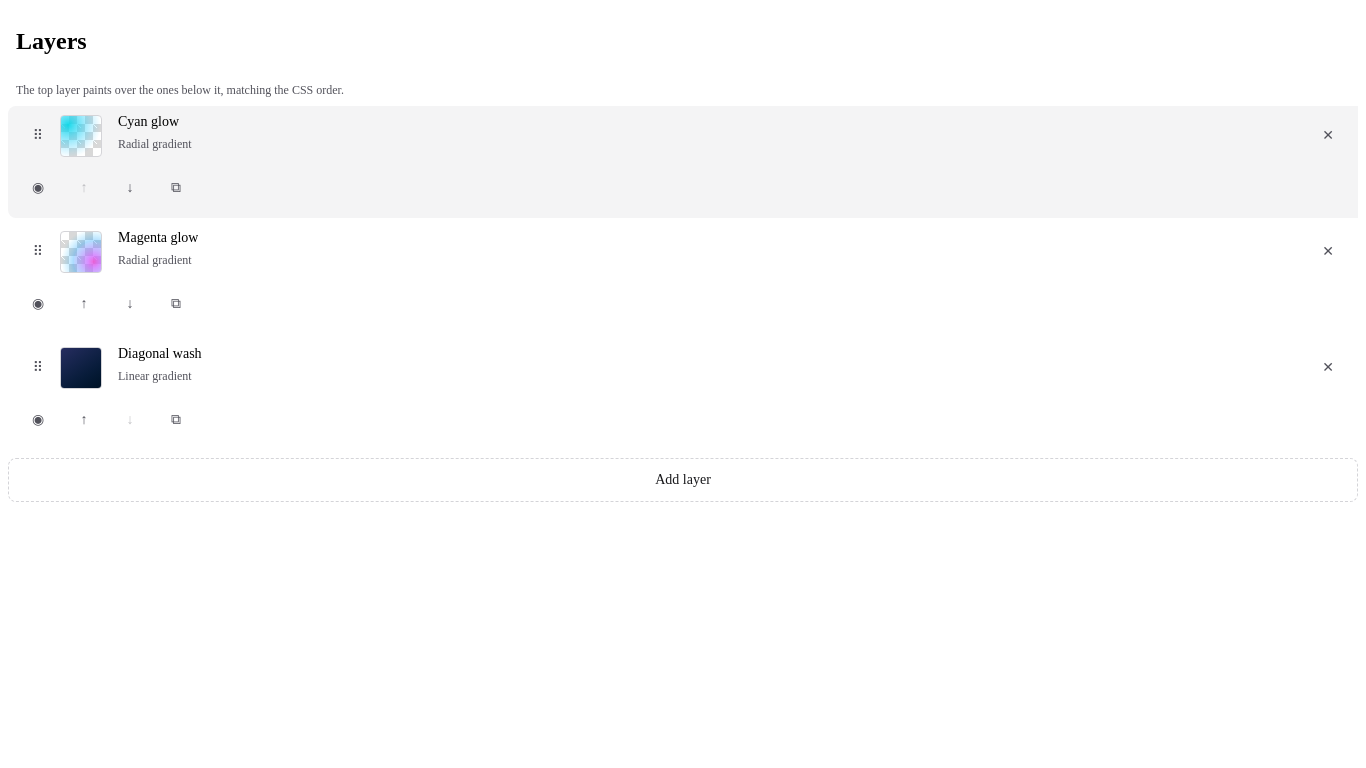
it: LayerList › duplicates a layer directly above the original
The image size is (1366, 768).
What coordinates should you click on to do the following:
click the button named "Duplicate Cyan glow"
I would click on:
 (176, 188)
Its box is 154,166 -> 198,210.
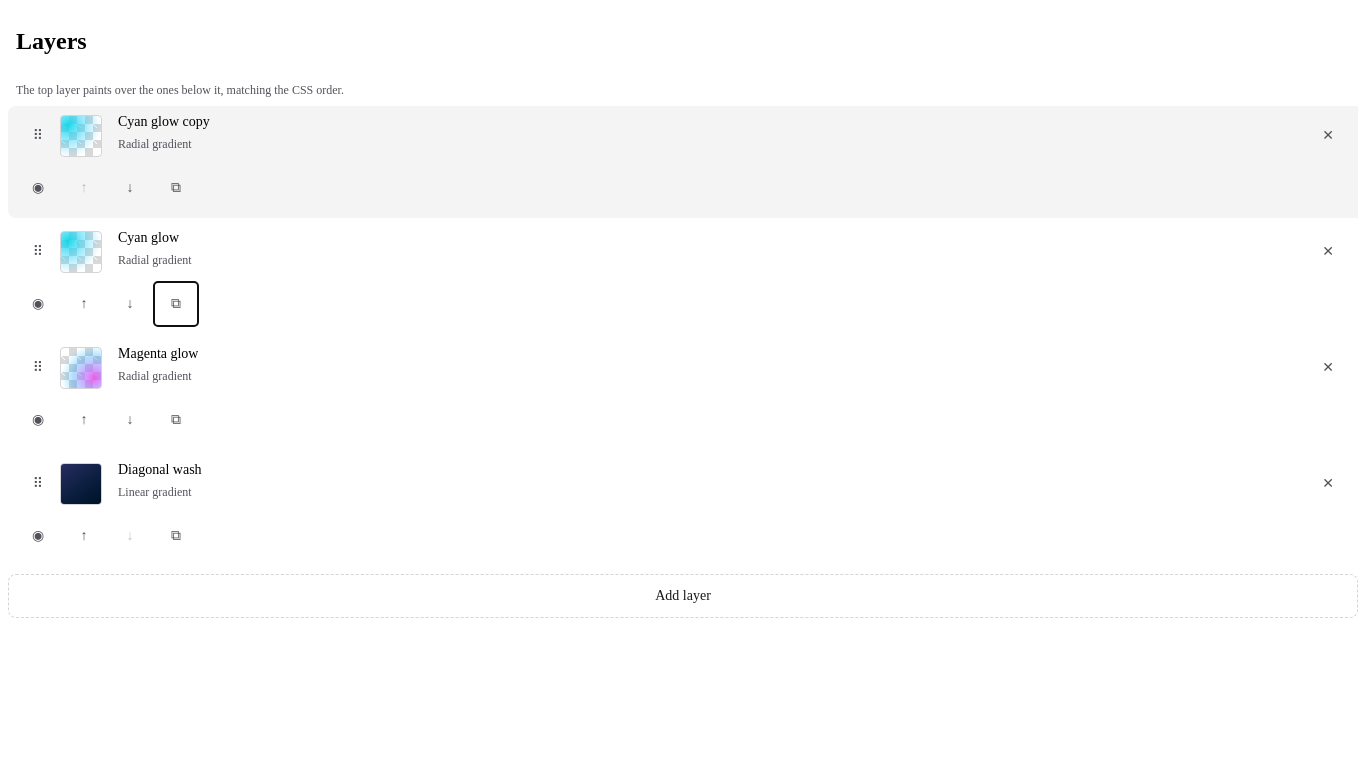
Expected: the text "Cyan glow copy" is shown, 118,114 -> 210,130
